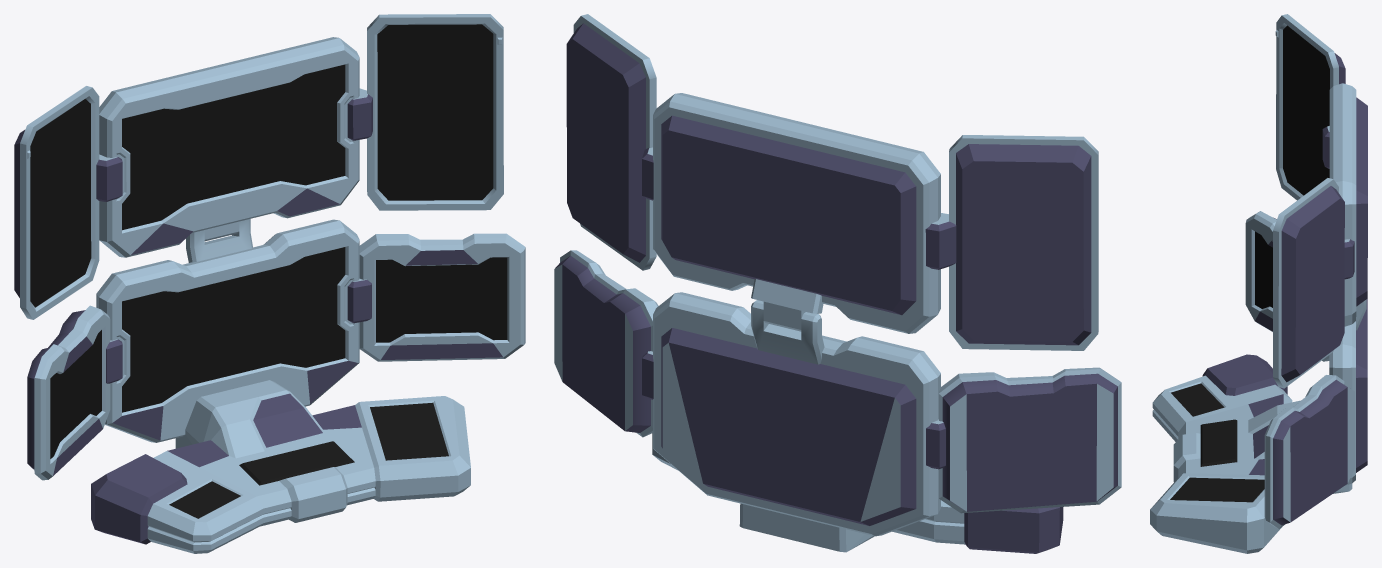
Rendered from Monitor.fbx.
3 renders of one model, left to right at view 1: azimuth 30°, elevation 25°; view 2: azimuth 150°, elevation 25°; view 3: azimuth 270°, elevation 25°, orthographic. The views are drawn at different scales.
Parts seen in each view (by area): view 1: Monitor; view 2: Monitor; view 3: Monitor.
Part boxes in pixels (left/top/right/bottom): Monitor: left=14, top=14, right=525, bottom=553; Monitor: left=554, top=14, right=1121, bottom=553; Monitor: left=1150, top=14, right=1367, bottom=553.
Bounding box in the file's own units: 1577 × 1212 × 661.
